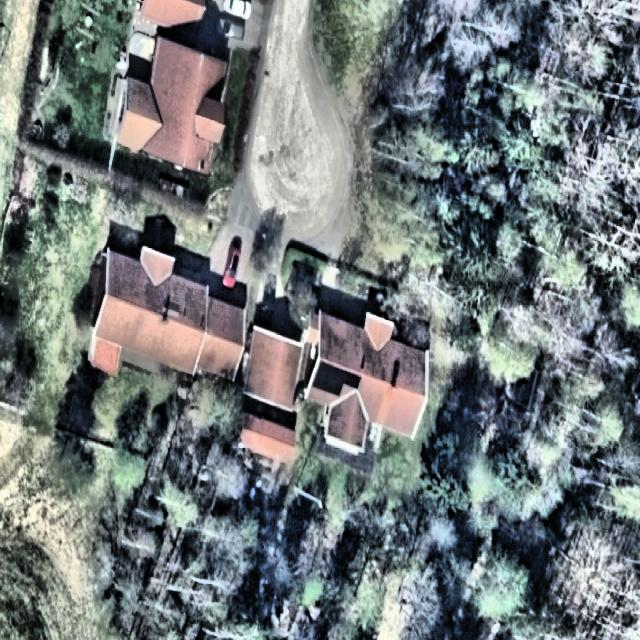roof_pv: (312, 360, 362, 401)
